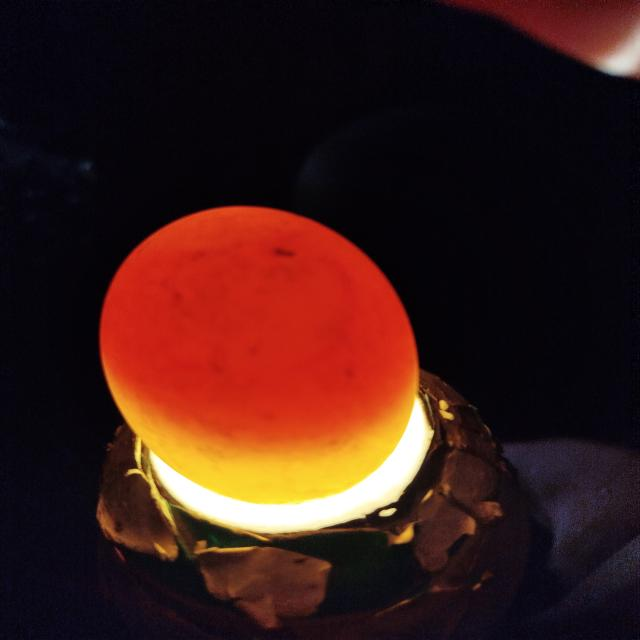Gema Quebrada: (100, 206, 418, 454)
